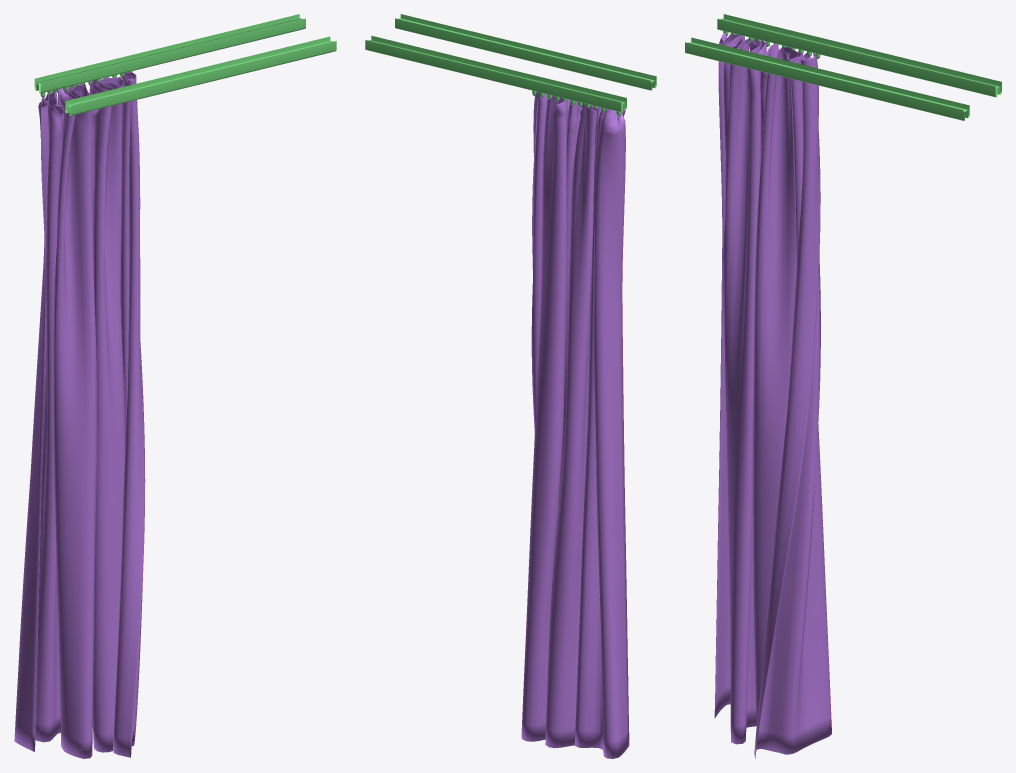
File: Curtain.fbx
3 views of the same model, side by side, from view 1: azimuth 30°, elevation 25°; view 2: azimuth 150°, elevation 25°; view 3: azimuth 330°, elevation 25° (orthographic). The views are drawn at different scales.
Visible parts, largest first — view 1: Rail_w_curtain, Rail_empty; view 2: Rail_w_curtain, Rail_empty; view 3: Rail_w_curtain, Rail_empty.
Part boxes in pixels (left/top/right/bottom): Rail_w_curtain: left=14, top=14, right=305, bottom=758; Rail_empty: left=65, top=36, right=336, bottom=115; Rail_w_curtain: left=365, top=35, right=629, bottom=758; Rail_empty: left=395, top=14, right=656, bottom=90; Rail_w_curtain: left=714, top=14, right=1001, bottom=758; Rail_empty: left=685, top=37, right=969, bottom=120.
Size of the model in its own units: 103 by 242 by 34.04.
